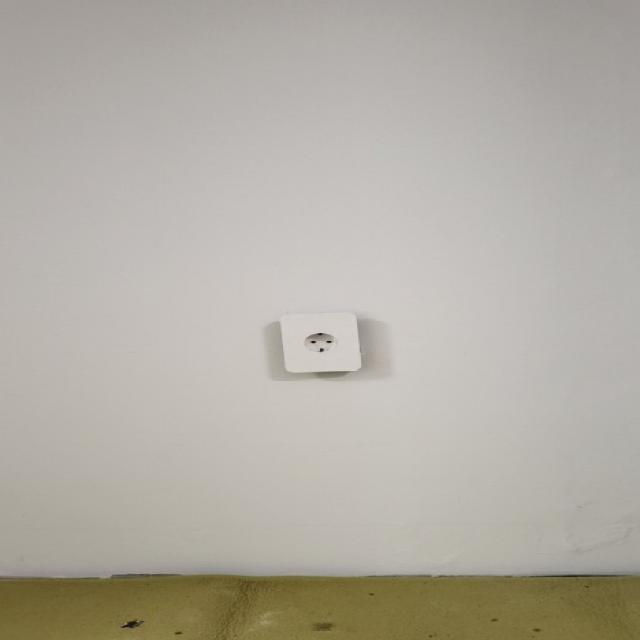typeb: (259, 297, 389, 395)
